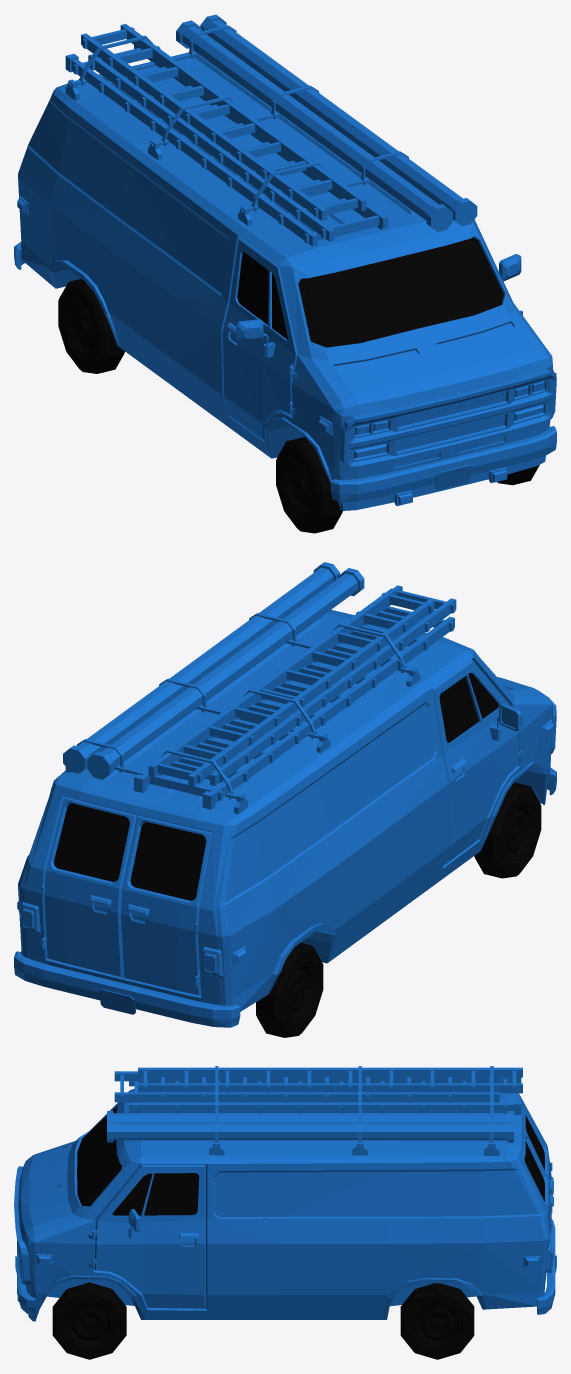
Rendered from HALF_minibus.fbx.
The picture shows the model from 3 angles, top to bottom: view 1: azimuth 30°, elevation 25°; view 2: azimuth 150°, elevation 25°; view 3: azimuth 270°, elevation 25°; orthographic projection. The views are drawn at different scales.
Parts seen in each view (by area): view 1: Cube_8, Cylinder_3, Cylinder_6; view 2: Cube_8, Symmetry_14, Cube_5, Cylinder_6, Cylinder_3; view 3: Cube_8, Cylinder_2, Cylinder_6, Cube_5, Symmetry_14.
Boxes of the visible parts, x1,y1,x2,y2 form: Cube_8: [14, 14, 556, 510]; Cylinder_3: [276, 437, 342, 533]; Cylinder_6: [58, 278, 124, 373]; Cube_8: [14, 562, 556, 1027]; Symmetry_14: [121, 815, 212, 995]; Cube_5: [44, 797, 137, 978]; Cylinder_6: [256, 942, 323, 1037]; Cylinder_3: [474, 782, 541, 878]; Cube_8: [14, 1066, 556, 1321]; Cylinder_2: [52, 1282, 126, 1359]; Cylinder_6: [400, 1283, 474, 1359]; Cube_5: [522, 1132, 553, 1275]; Symmetry_14: [523, 1103, 553, 1194].
Size of the model in its own units: 236 by 228 by 490.
